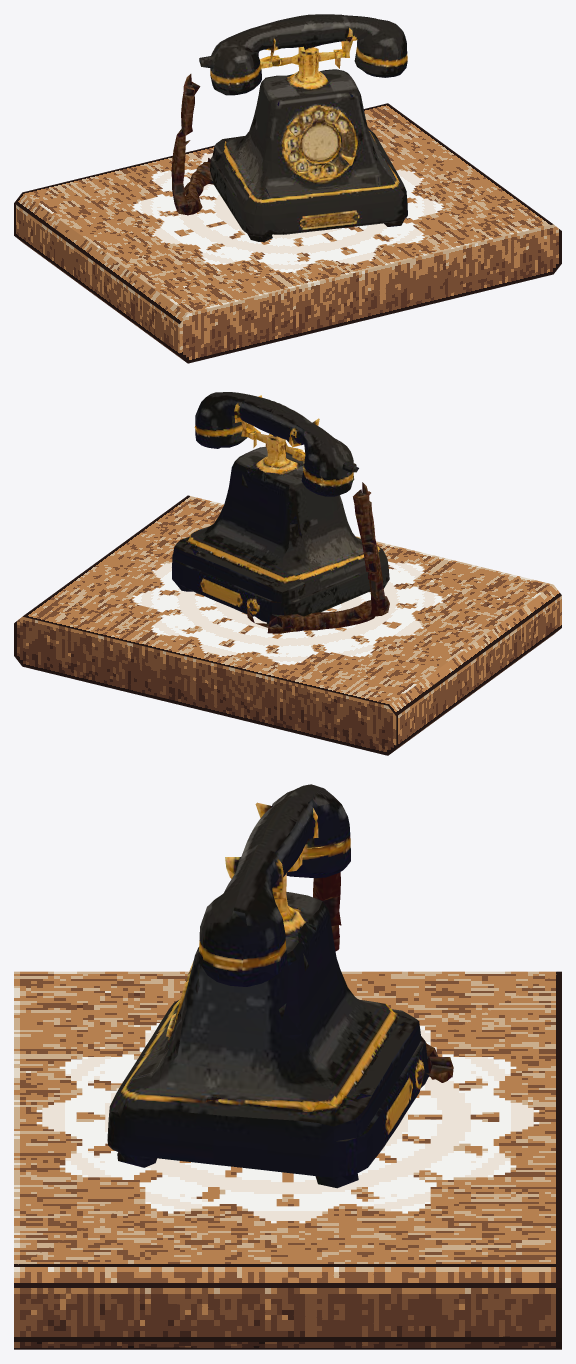
The model's file is phone.glb.
3 views of the same model, one above another, from view 1: azimuth 30°, elevation 25°; view 2: azimuth 150°, elevation 25°; view 3: azimuth 270°, elevation 25° (orthographic). The views are drawn at different scales.
Visible parts, largest first — view 1: base, model_phone, doily; view 2: base, model_phone, doily; view 3: base, model_phone, doily.
Part boxes in pixels (x1,y1,x2,y2): base: (14,103,561,363); model_phone: (171,14,407,241); doily: (132,153,443,272); base: (14,495,561,755); model_phone: (172,392,389,633); doily: (132,561,443,665); base: (14,971,561,1349); model_phone: (107,784,453,1188); doily: (36,1023,539,1223).
Size of the model in its own units: 32 by 19.2 by 24.
Materials: 3 (3 with a texture image).
